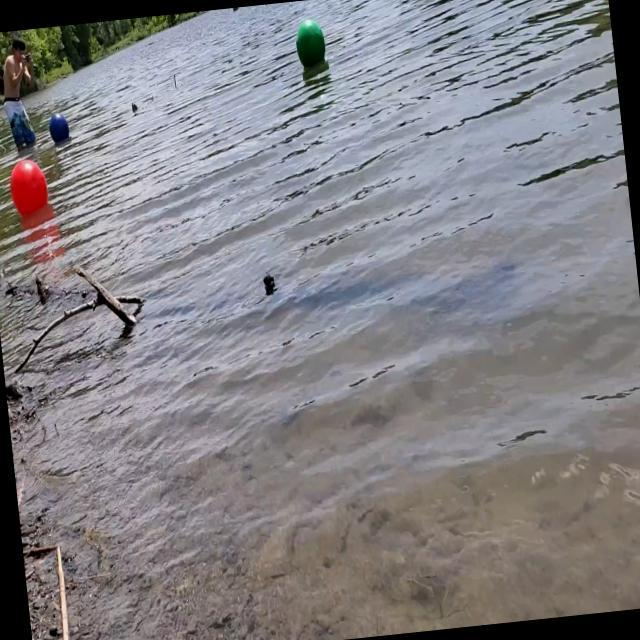buoy: (4, 155, 51, 223), (290, 16, 331, 72), (46, 109, 72, 148)
